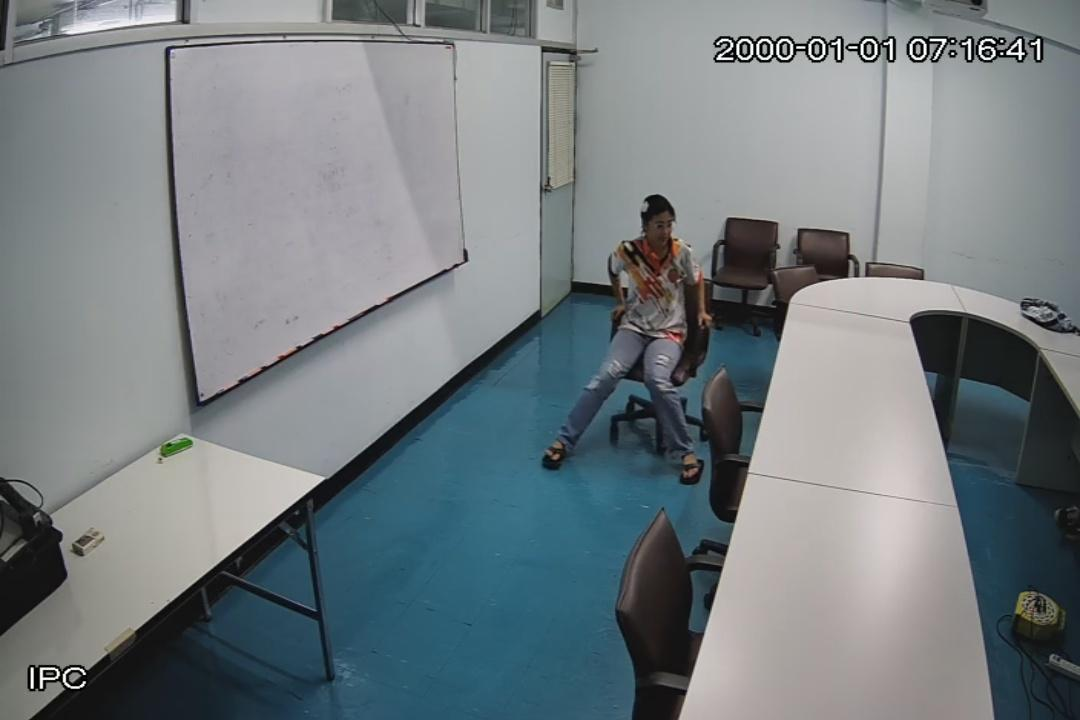normal: (546, 190, 710, 496)
